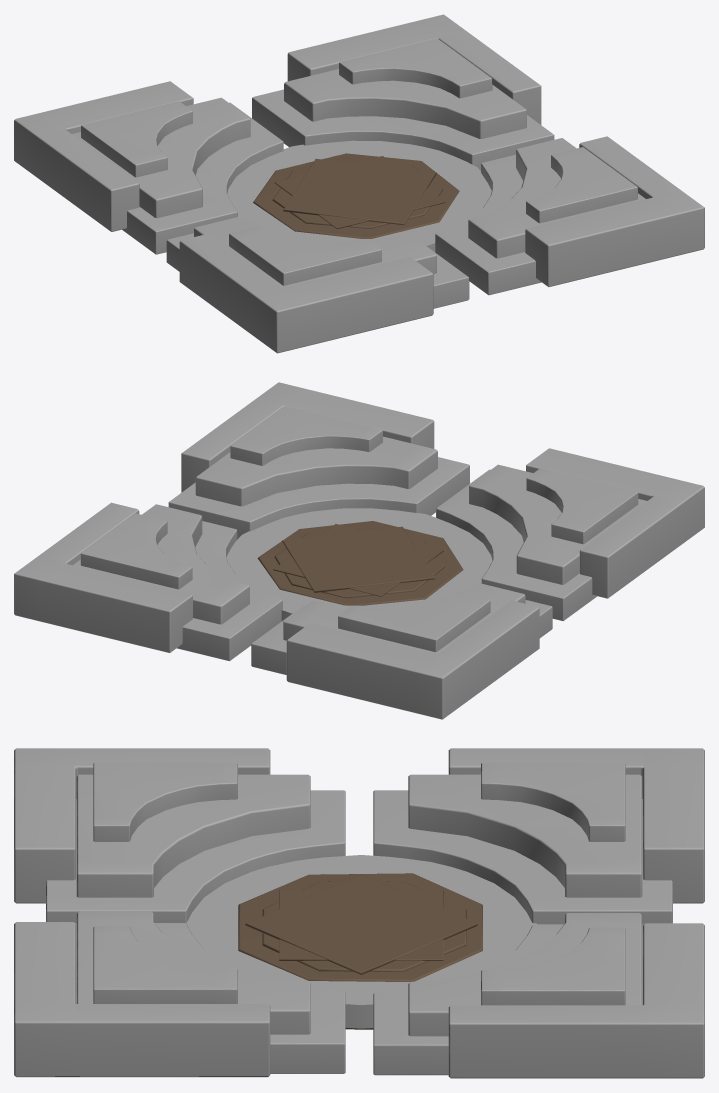
The model's file is smStartingArea.fbx.
3 views of the same model, one above another, from view 1: azimuth 30°, elevation 25°; view 2: azimuth 150°, elevation 25°; view 3: azimuth 270°, elevation 25° (orthographic). The views are drawn at different scales.
Parts seen in each view (by area): view 1: startingArea; view 2: startingArea; view 3: startingArea.
Part boxes in pixels (bbox=[...]): startingArea: bbox=[14, 14, 704, 353]; startingArea: bbox=[14, 382, 704, 719]; startingArea: bbox=[14, 748, 704, 1078].
Size of the model in its own units: 2013 by 350 by 2131.
